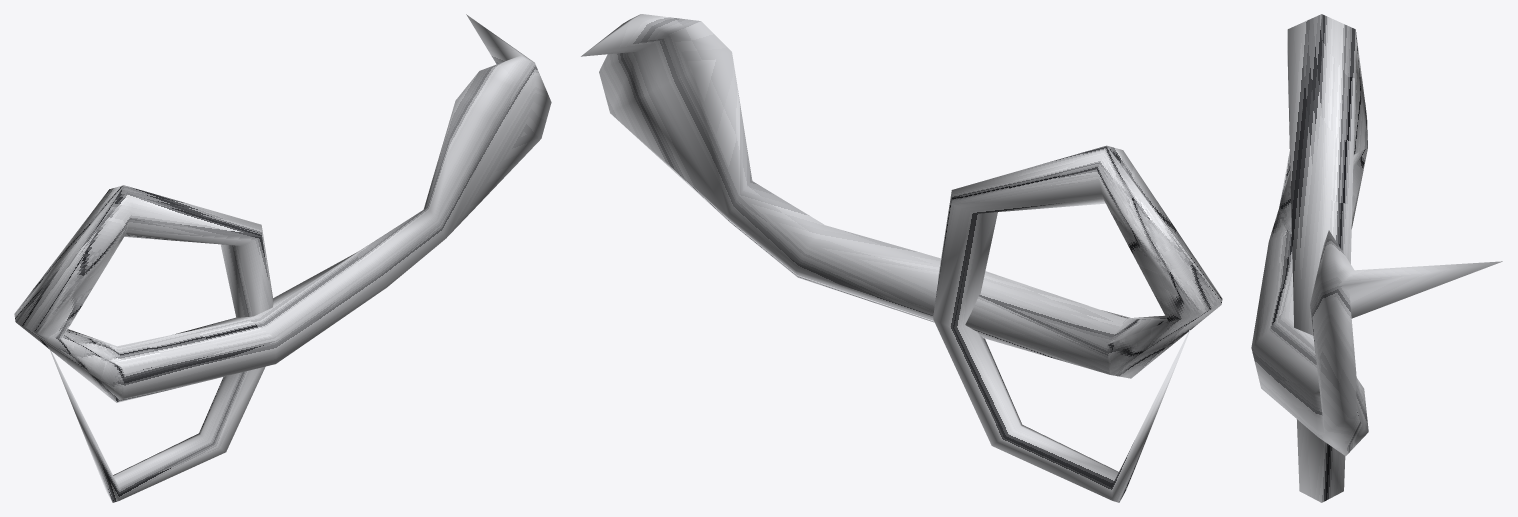
File: snake_000057.obj
The picture shows the model from 3 angles, left to right: view 1: azimuth 30°, elevation 25°; view 2: azimuth 150°, elevation 25°; view 3: azimuth 270°, elevation 25°; orthographic projection. The views are drawn at different scales.
Parts seen in each view (by area): view 1: Cylinder; view 2: Cylinder; view 3: Cylinder.
Part boxes in pixels (x1,y1,x2,y2): Cylinder: (14, 14, 551, 502); Cylinder: (581, 14, 1222, 502); Cylinder: (1251, 14, 1502, 502).
Size of the model in its own units: 4.41 by 2.64 by 1.23.
